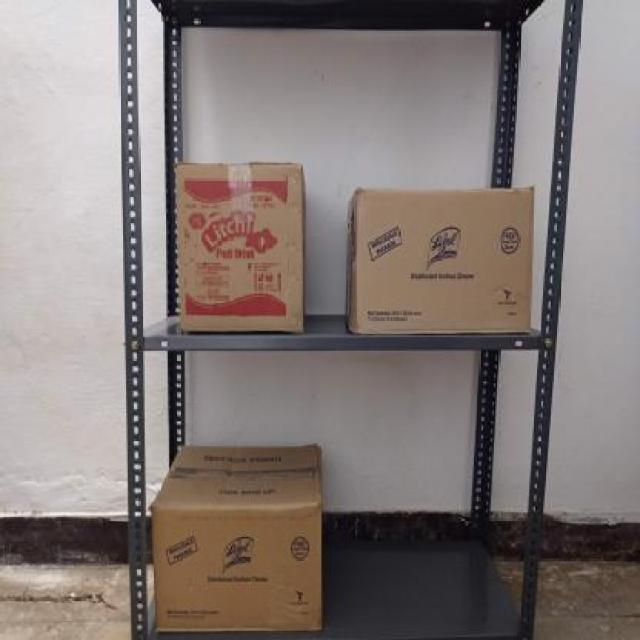box: (352, 190, 532, 333), (179, 162, 304, 336), (152, 504, 321, 630)
